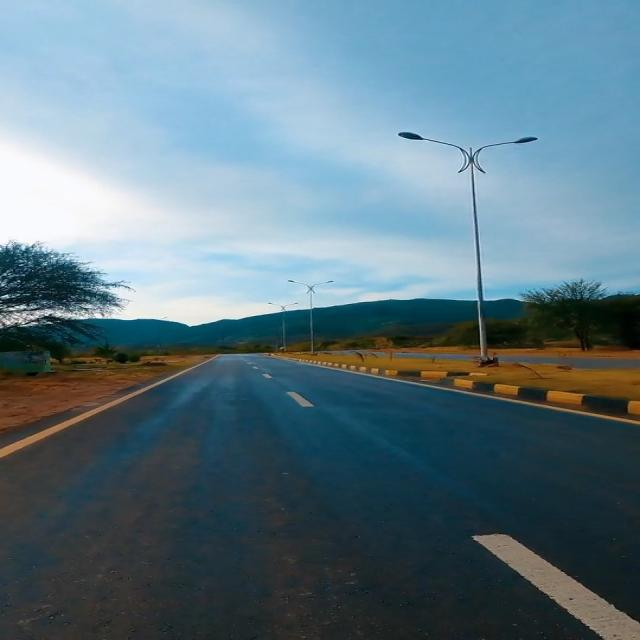asphalt: (0, 355, 639, 639)
